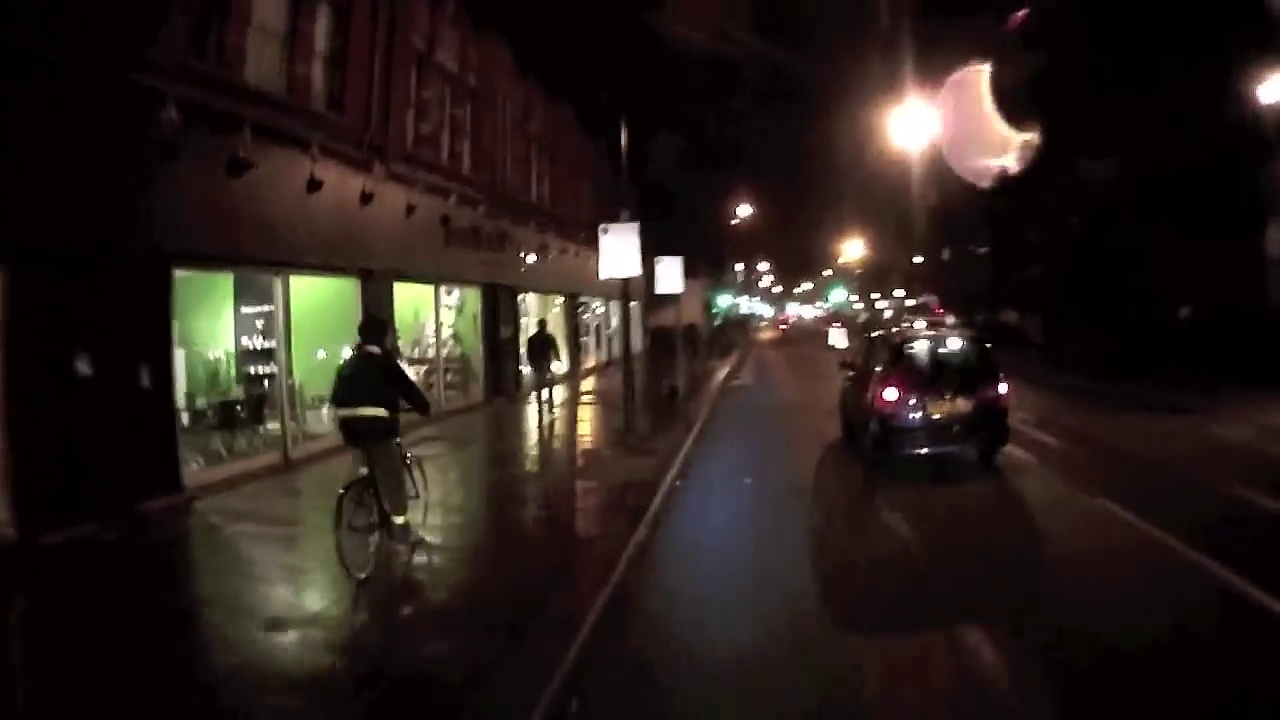cyclist_back: (322, 308, 439, 578)
